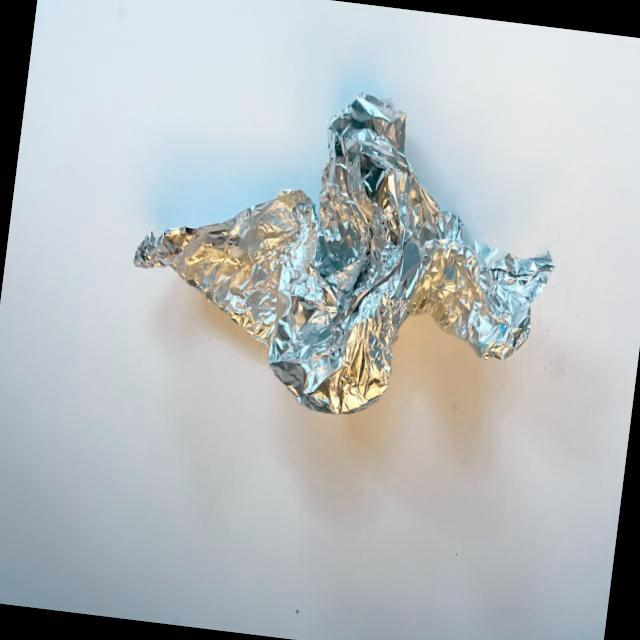metal: (94, 32, 582, 454)
